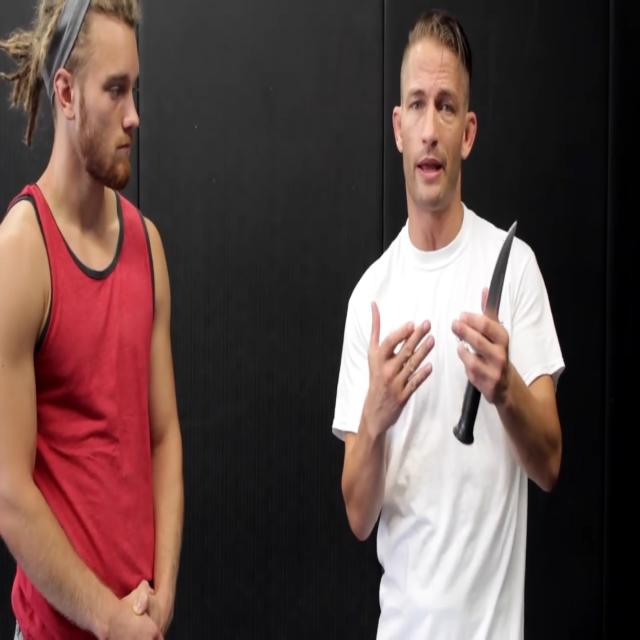knife: (453, 215, 521, 448)
